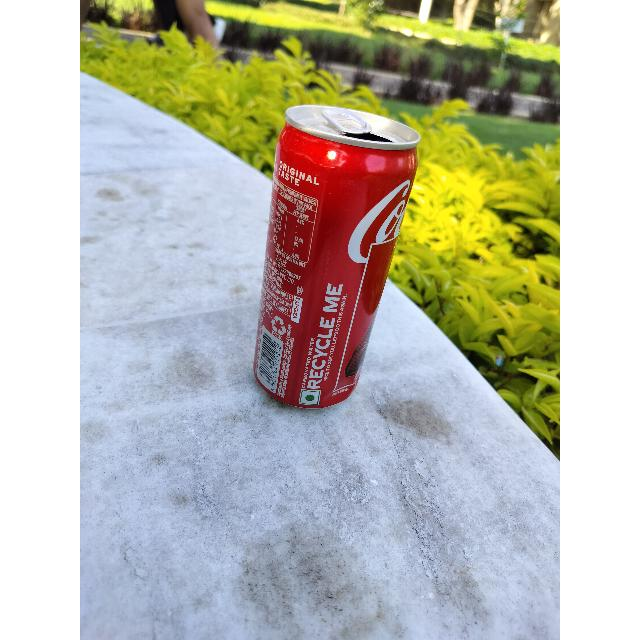Coca Cola - Marvel: (223, 120, 422, 416)
